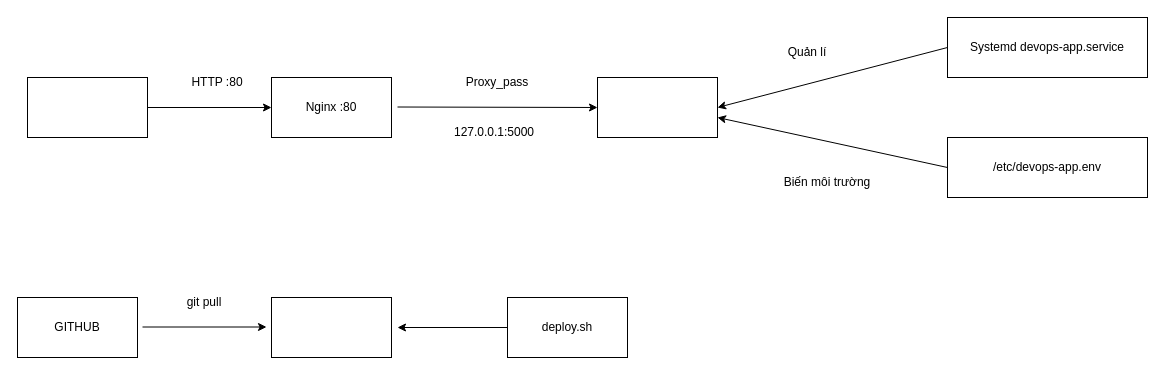
Some shapes in this 1165 by 375 pixel diagram are drawn without their labels. Each missing label, with the centre of its shape:
/opt/devops-app: the point at 331,327
Flask app 127.0.0.1:5000: the point at 657,107
Trình Duyệt: the point at 87,107
